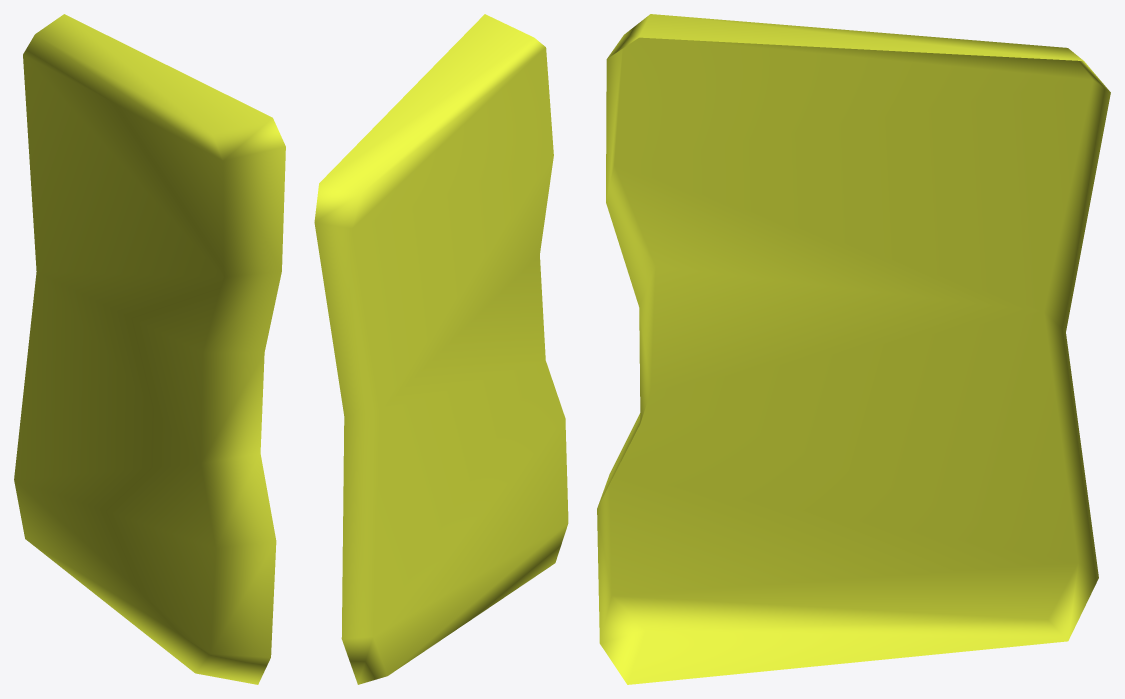
The model's file is b_polySurface618_b_BMW_i8Elite_2017CalliperGloss_Material1_0.glb.
3 renders of one model, left to right at view 1: azimuth 30°, elevation 25°; view 2: azimuth 150°, elevation 25°; view 3: azimuth 270°, elevation 25°, orthographic. The views are drawn at different scales.
Visible parts, largest first — view 1: b:polySurface618_b:BMW_i8Elite_2017CalliperGloss_Material1_0; view 2: b:polySurface618_b:BMW_i8Elite_2017CalliperGloss_Material1_0; view 3: b:polySurface618_b:BMW_i8Elite_2017CalliperGloss_Material1_0.
Boxes of the visible parts, x1,y1,x2,y2 form: b:polySurface618_b:BMW_i8Elite_2017CalliperGloss_Material1_0: (14,14,285,684); b:polySurface618_b:BMW_i8Elite_2017CalliperGloss_Material1_0: (314,14,568,684); b:polySurface618_b:BMW_i8Elite_2017CalliperGloss_Material1_0: (597,14,1110,684).
Size of the model in its own units: 0.017 by 0.1211 by 0.0856.
